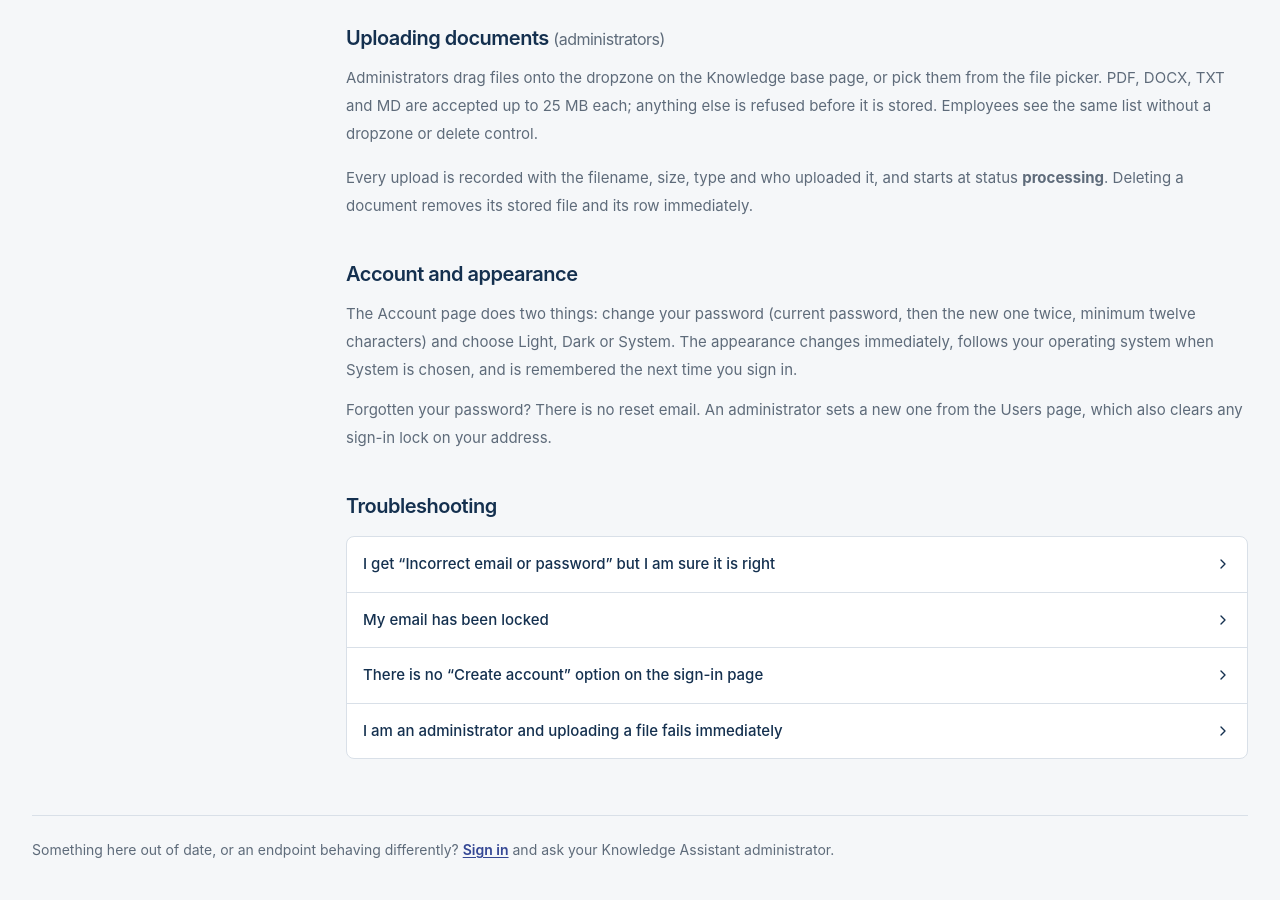
Test: Docs screen › AC-090: FAQ items expand and collapse on click
(page scrolled)
What coordinates should you click on to do the following:
click the button "Incorrect email or password"
I would click on:
 (569, 564)
Its box is [347, 537, 1247, 592].
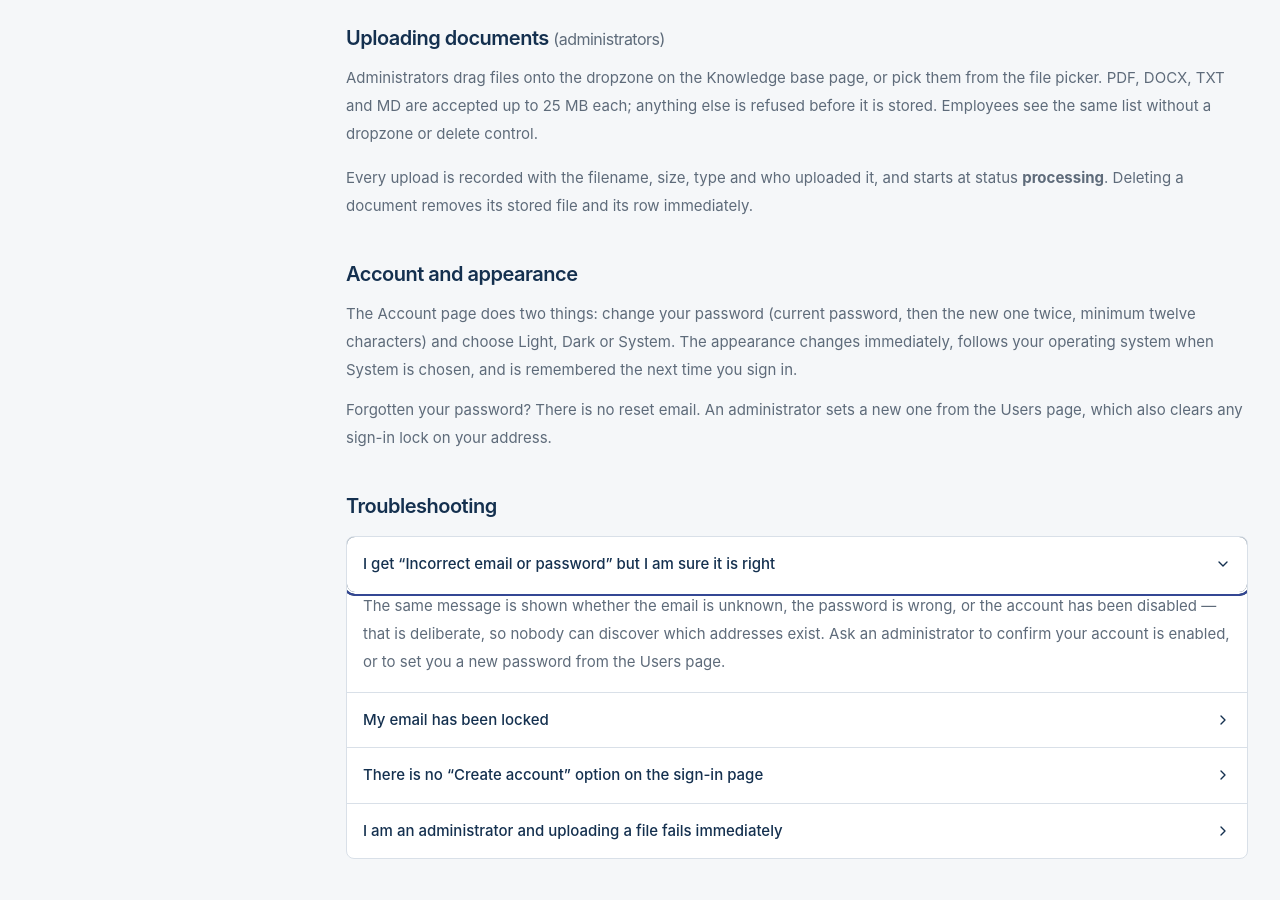
Check: the button "Incorrect email or password" is expanded, box [347, 537, 1247, 592]
